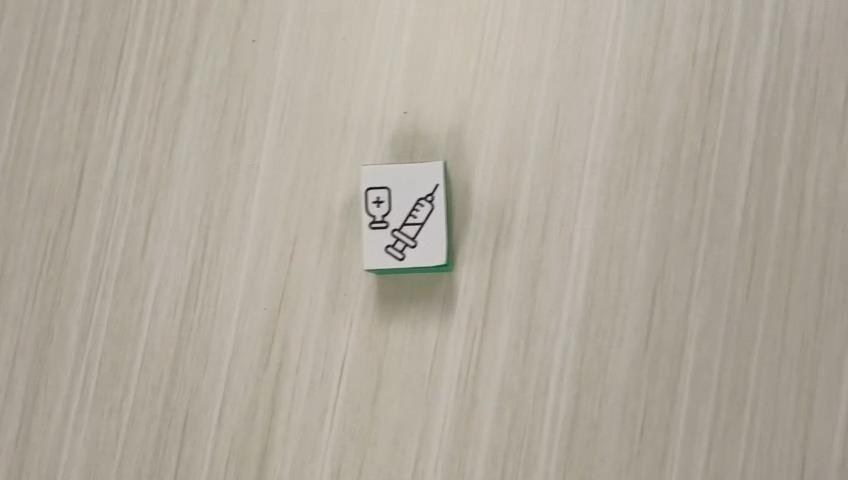antiseptic cream: (358, 158, 452, 274)
